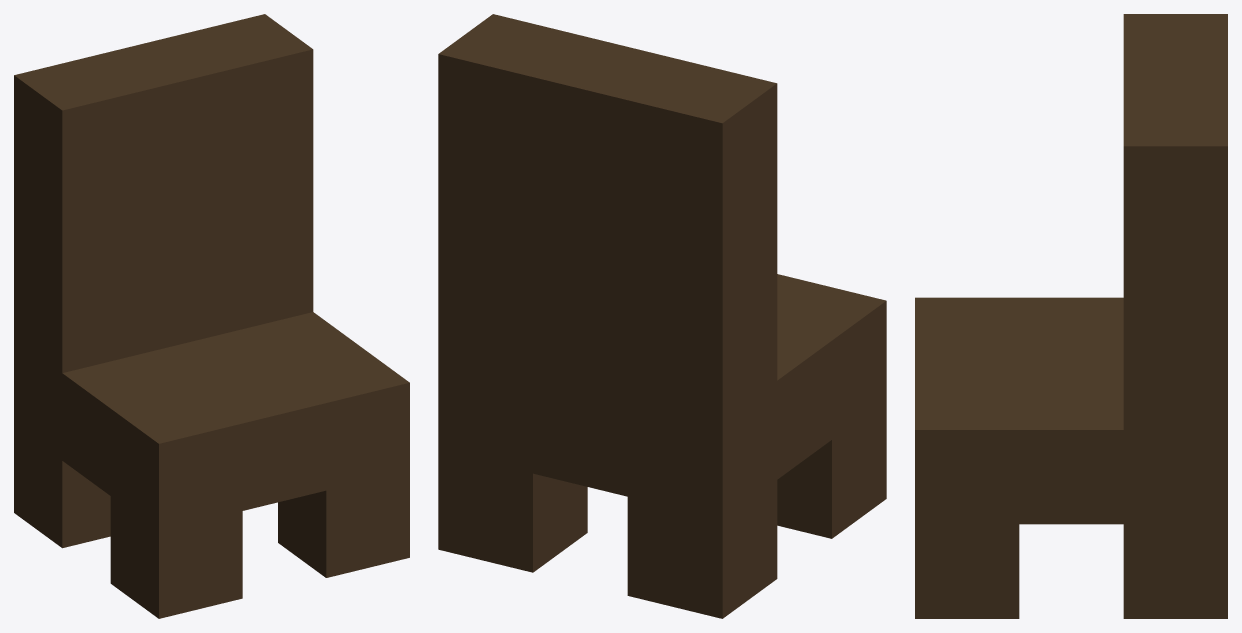
Rendered from Chair.dae.
3 views of the same model, side by side, from view 1: azimuth 30°, elevation 25°; view 2: azimuth 150°, elevation 25°; view 3: azimuth 270°, elevation 25° (orthographic). The views are drawn at different scales.
Parts seen in each view (by area): view 1: Chair; view 2: Chair; view 3: Chair.
Boxes of the visible parts, <box> form: Chair: <box>14,14,409,618</box>; Chair: <box>438,14,886,618</box>; Chair: <box>915,14,1227,618</box>.
Size of the model in its own units: 3 by 5 by 3.
Materials: 1 (1 with a texture image).
